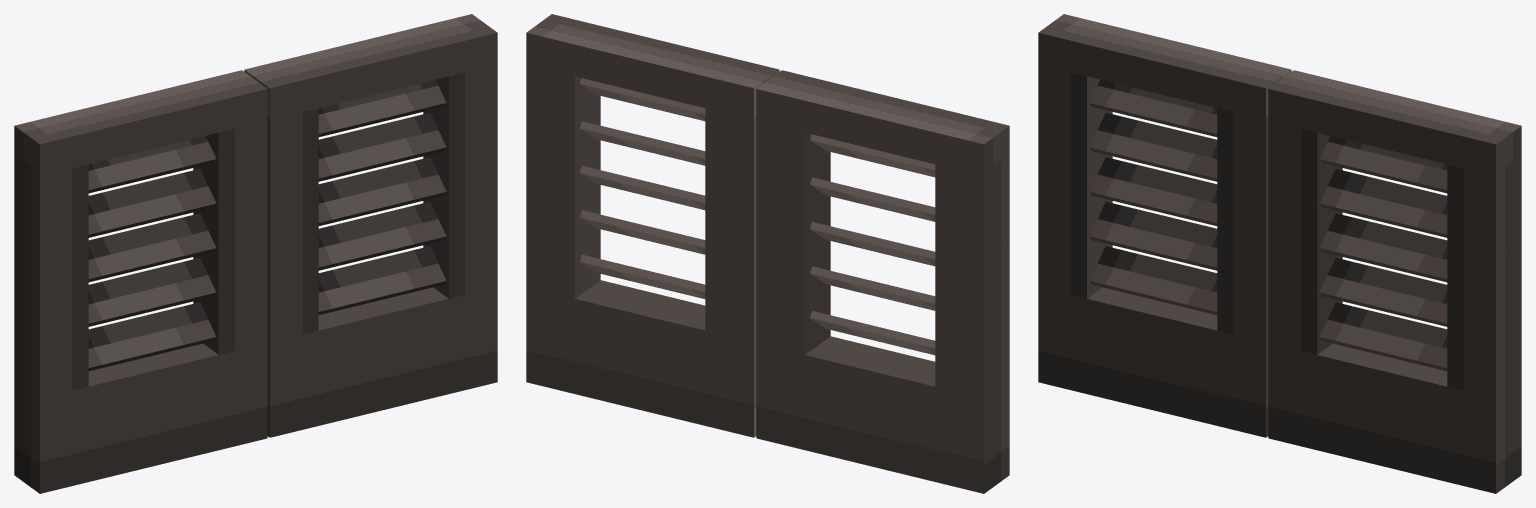
File: closed_shutter_290x02.obj
The picture shows the model from 3 angles, left to right: view 1: azimuth 30°, elevation 25°; view 2: azimuth 150°, elevation 25°; view 3: azimuth 330°, elevation 25°; orthographic projection.
Parts seen in each view (by area): view 1: Frame.003; view 2: Frame.003; view 3: Frame.003.
Boxes of the visible parts, left/top/right/bottom form: Frame.003: left=14, top=14, right=497, bottom=493; Frame.003: left=526, top=14, right=1009, bottom=493; Frame.003: left=1038, top=14, right=1521, bottom=493.
Size of the model in its own units: 3.87 by 2.82 by 0.375.
